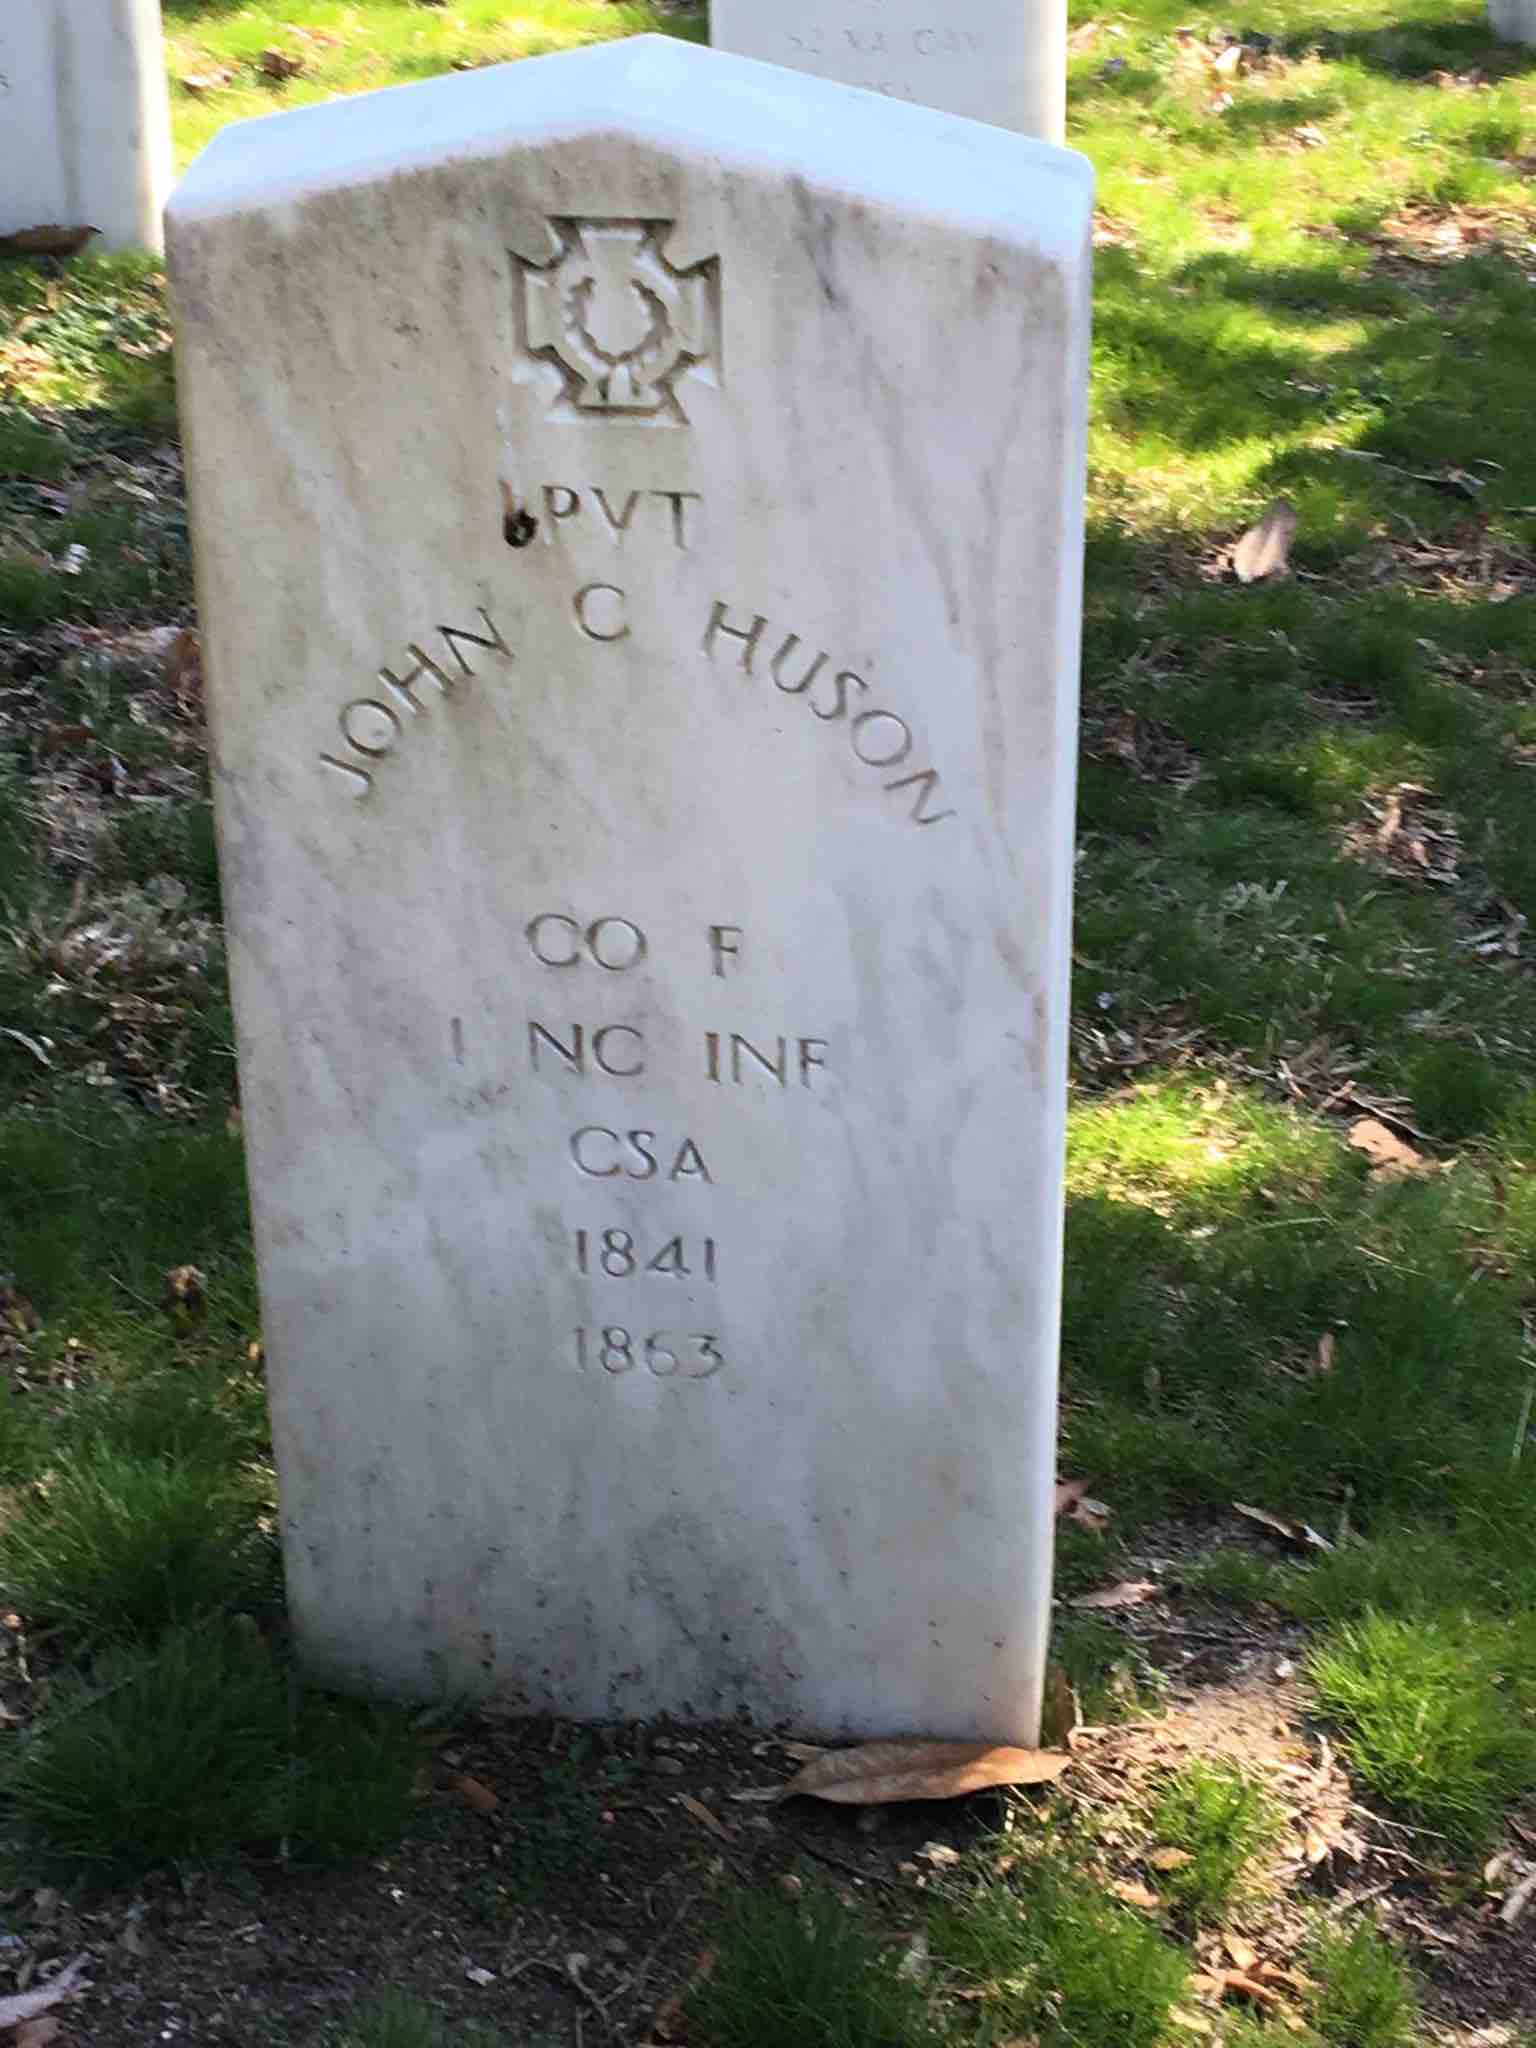military: (165, 52, 1100, 1725)
